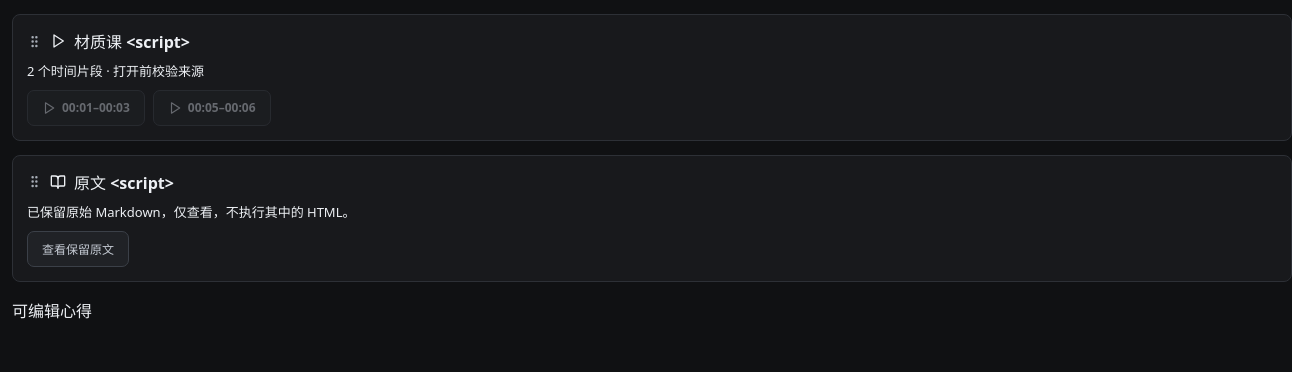
it: loads raw Markdown on demand, announces failures and retries without executing HTML
The width and height of the screenshot is (1292, 372).
Later steps or results of the test are not shown.
Click the button "查看保留原文" at point(78, 249), box [27, 231, 129, 267]
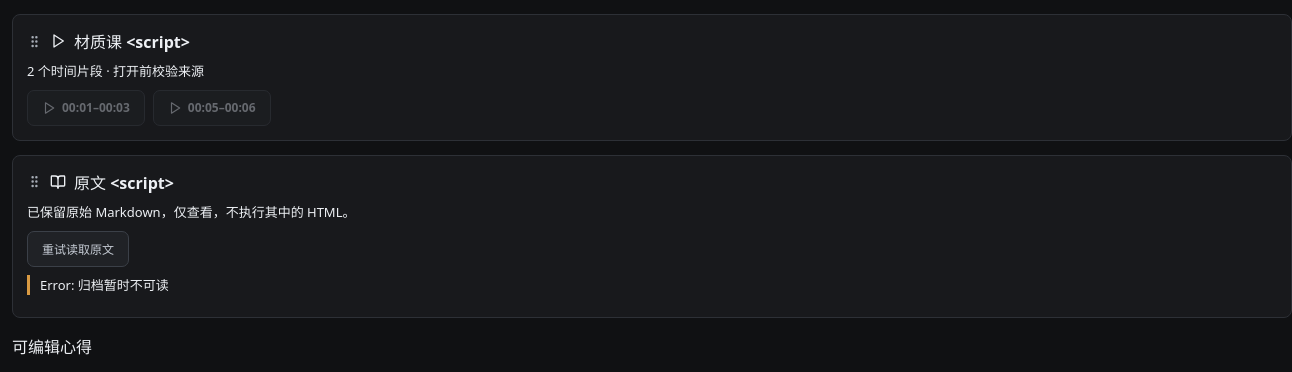
Expected: the message shows "归档暂时不可读", [40, 276, 169, 294]
